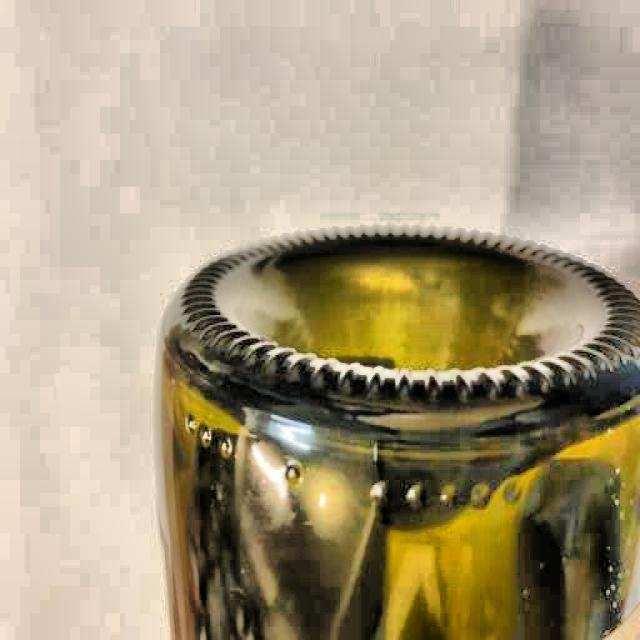glass: (148, 227, 640, 640)
